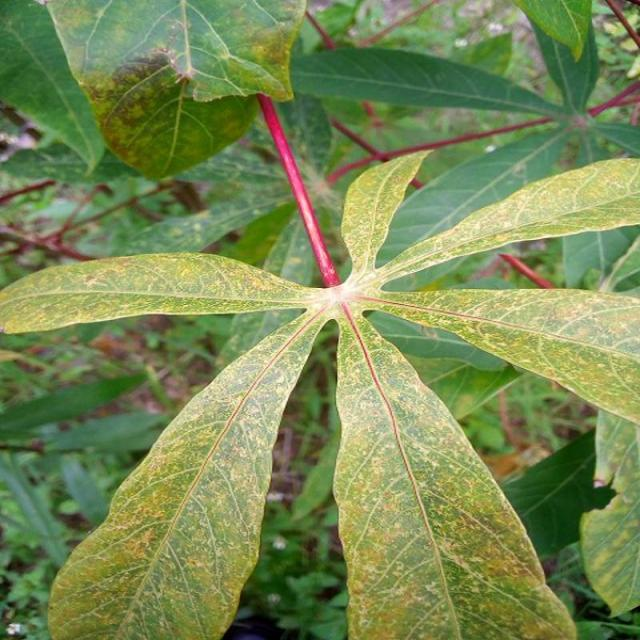cassava leaf: (2, 141, 638, 638), (46, 303, 331, 638), (331, 304, 578, 638), (43, 0, 307, 181)
